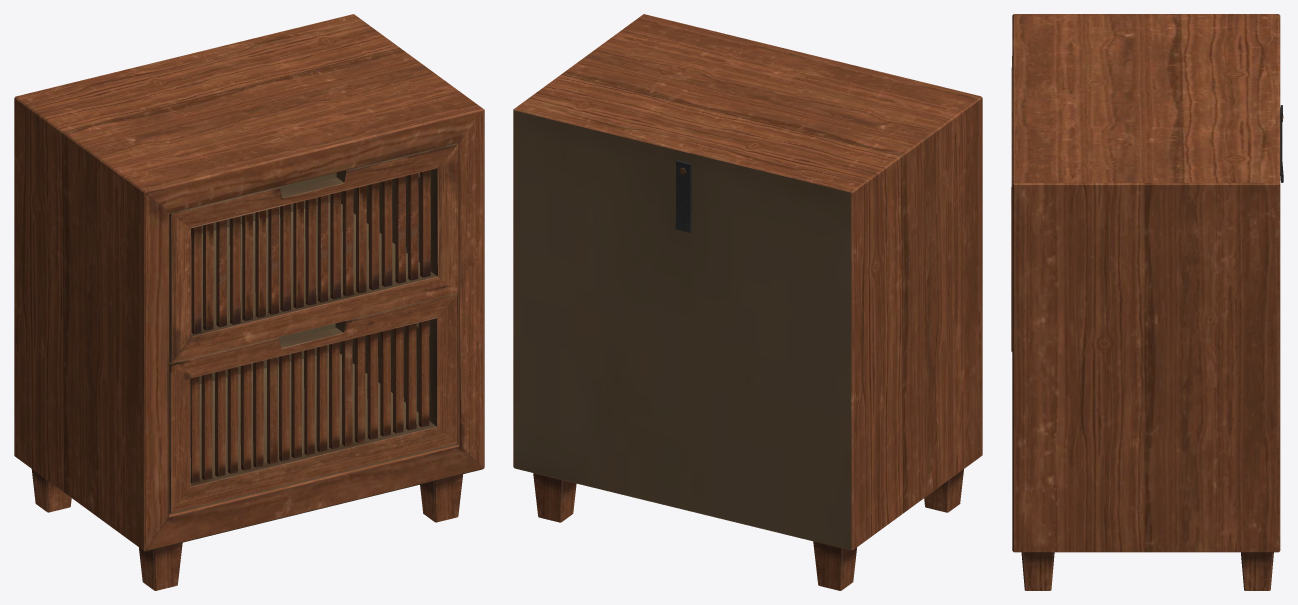
The model's file is abo-B074KN35K2.glb.
3 views of the same model, side by side, from view 1: azimuth 30°, elevation 25°; view 2: azimuth 150°, elevation 25°; view 3: azimuth 270°, elevation 25° (orthographic). The views are drawn at different scales.
Size of the model in its own units: 0.607 by 0.695 by 0.41.
1 material, 1 textured.
